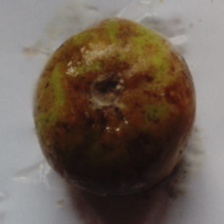guava: (55, 29, 205, 224)
